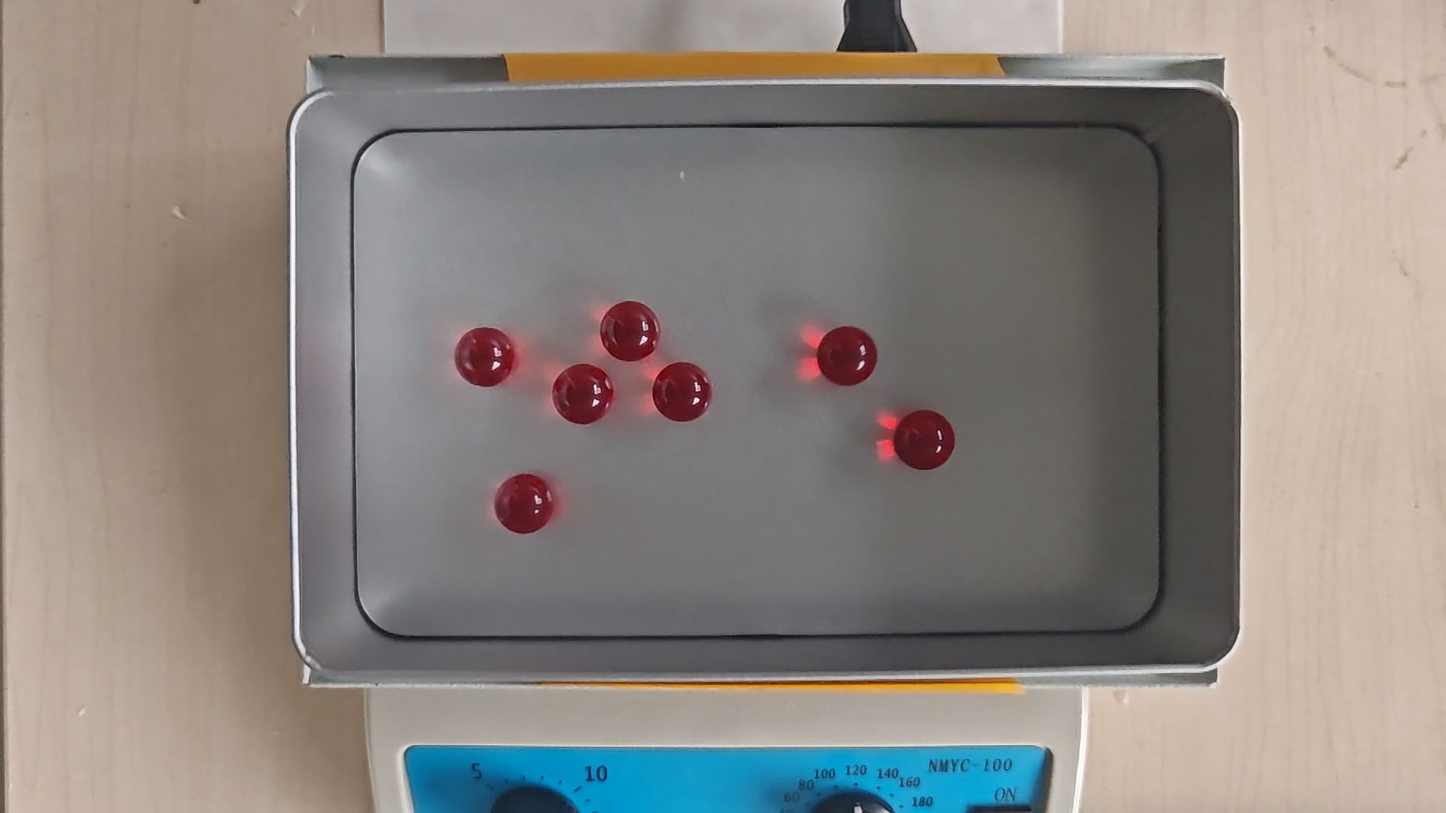ball: (551, 362, 615, 428), (599, 300, 663, 362), (455, 325, 516, 390), (816, 324, 878, 387), (494, 474, 555, 534), (652, 362, 712, 423), (895, 410, 954, 471)
container: (350, 124, 1161, 632)
